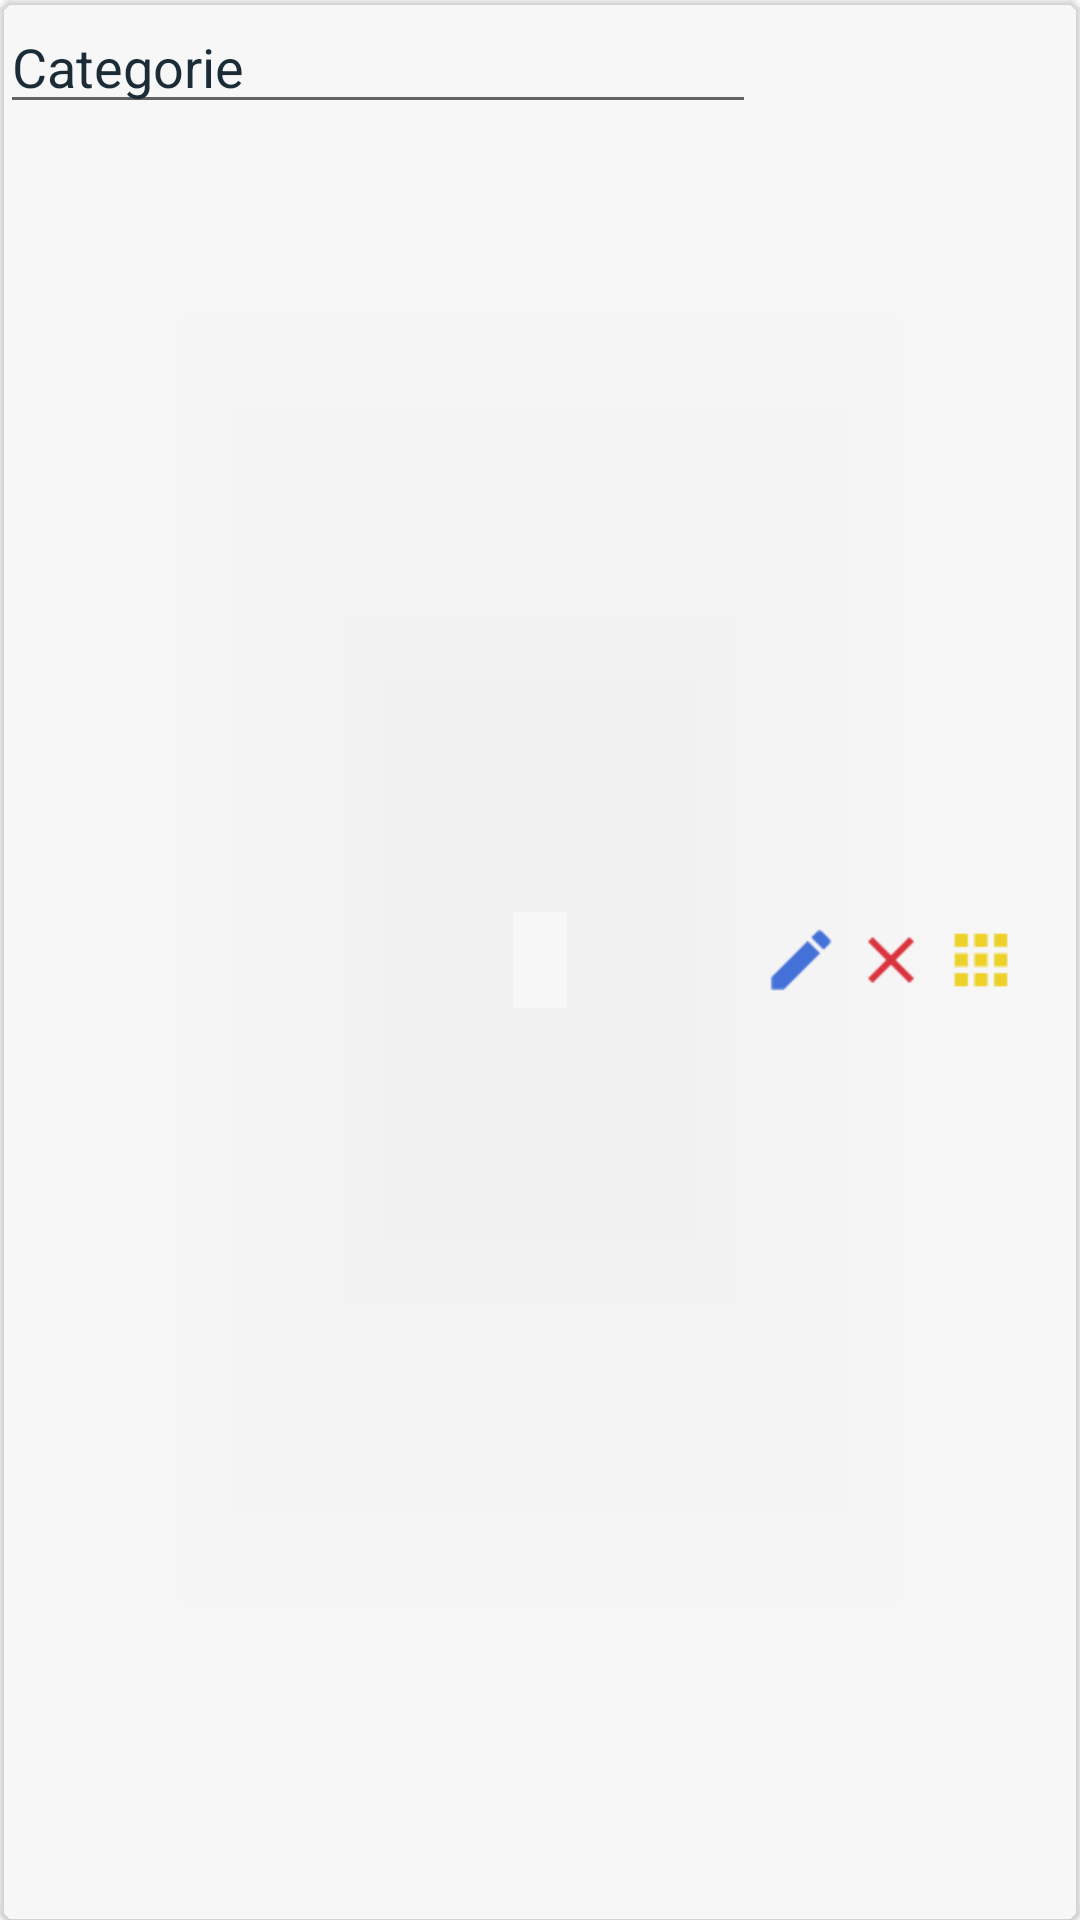

Screen size 1080px×1920px. Icon name, then its center in pixels as point (x, y):
deleteicon: point (891, 960)
updateicon: point (801, 960)
